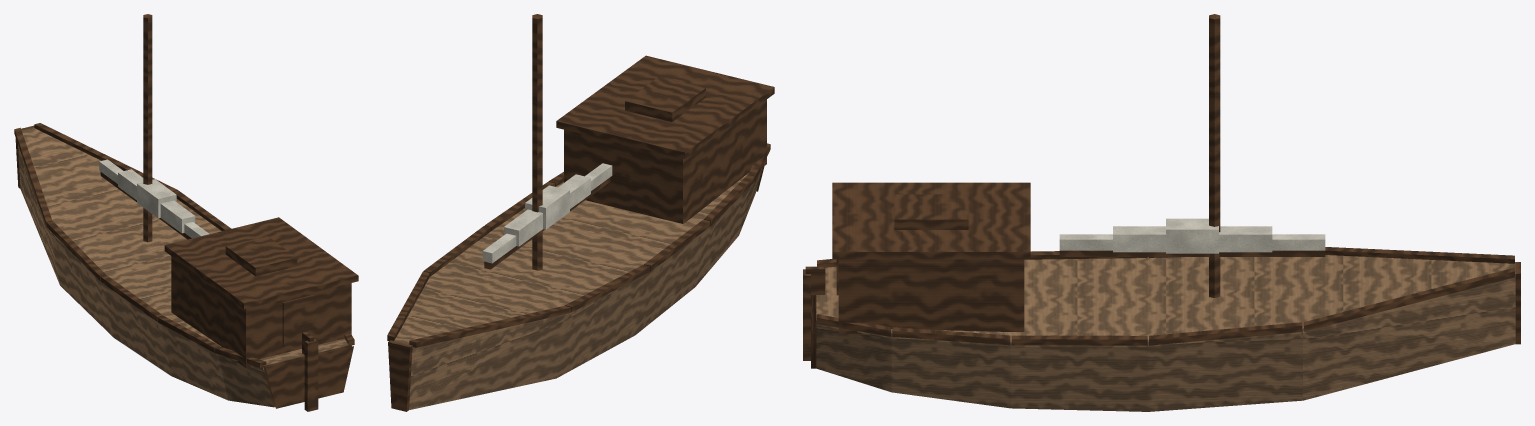
The model's file is working_boat.fbx.
3 renders of one model, left to right at view 1: azimuth 30°, elevation 25°; view 2: azimuth 150°, elevation 25°; view 3: azimuth 270°, elevation 25°, orthographic. The views are drawn at different scales.
Visible parts, largest first — view 1: working_boat; view 2: working_boat; view 3: working_boat.
Part boxes in pixels (x1,y1,x2,y2): working_boat: [14, 14, 358, 411]; working_boat: [387, 14, 774, 411]; working_boat: [803, 14, 1520, 411].
Bounding box in the file's own units: 240 × 447 × 811.
